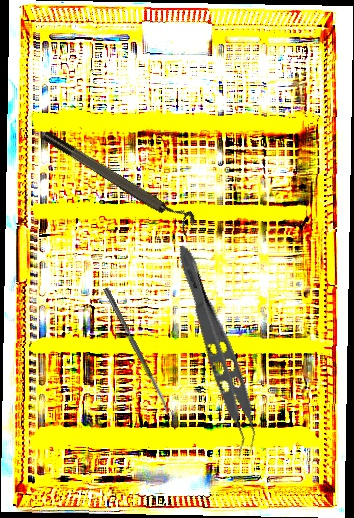Fixation Ring: (40, 121, 199, 237)
Surgical Spoon: (102, 286, 173, 418)
Tissue Forceps: (158, 242, 271, 459)
